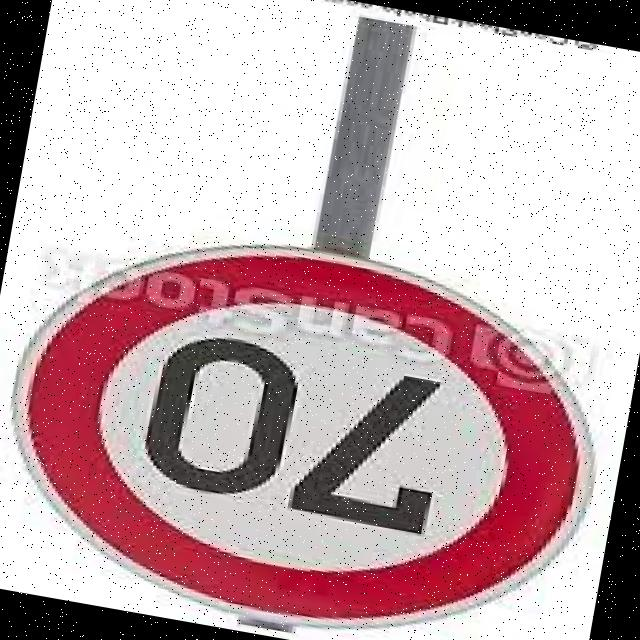speed_limit_70: (0, 196, 639, 640)
